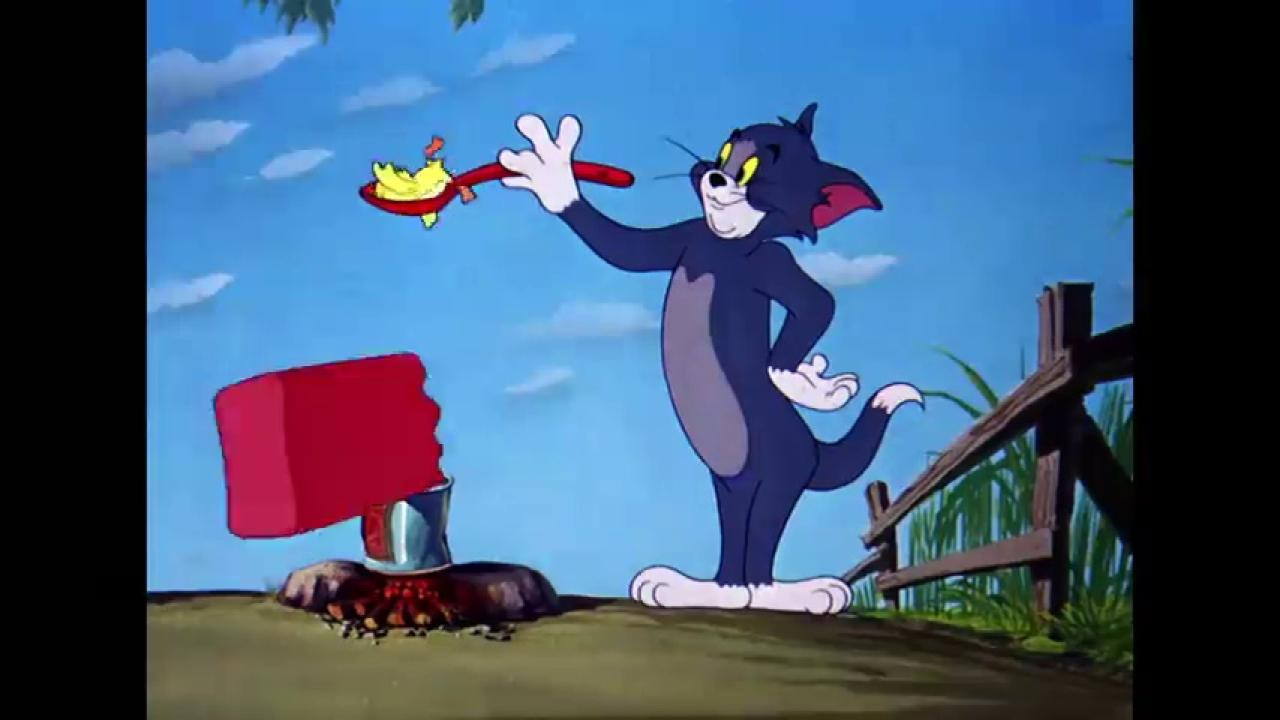Tom: (496, 98, 927, 615)
